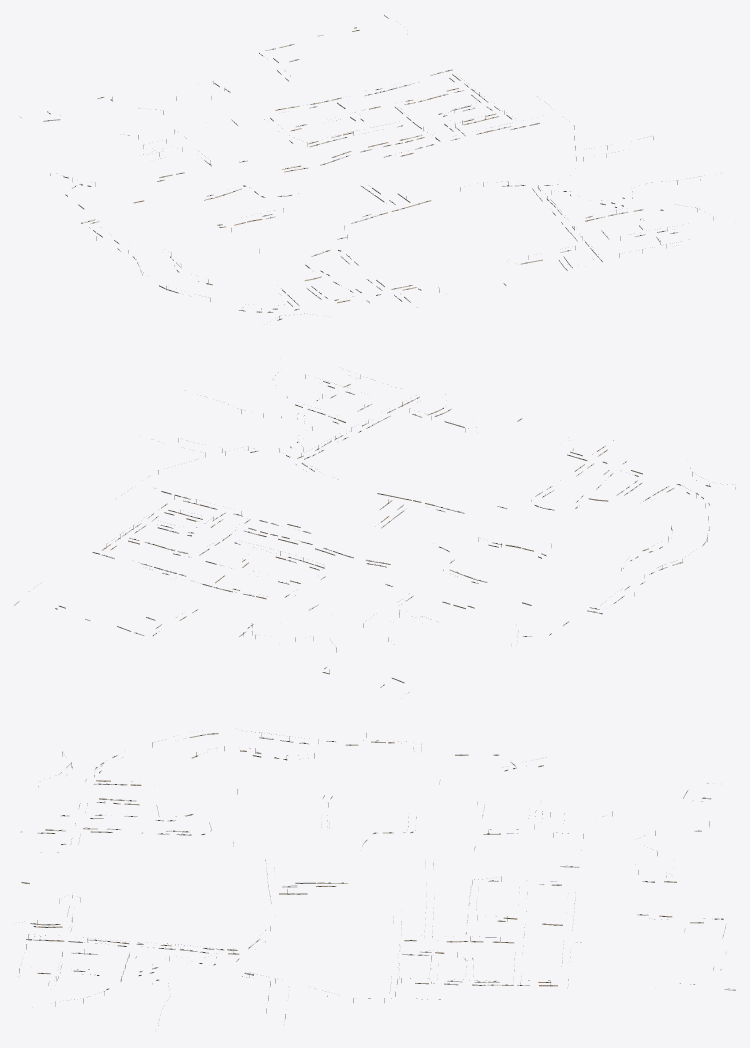
3 renders of one model, top to bottom at view 1: azimuth 30°, elevation 25°; view 2: azimuth 150°, elevation 25°; view 3: azimuth 270°, elevation 25°, orthographic. The views are drawn at different scales.
Visible parts, largest first — view 1: nd_st_m7_m3_lod0; view 2: nd_st_m7_m3_lod0; view 3: nd_st_m7_m3_lod0.
Boxes of the visible parts, x1,y1,x2,y2 form: nd_st_m7_m3_lod0: [20, 15, 713, 320]; nd_st_m7_m3_lod0: [14, 374, 735, 694]; nd_st_m7_m3_lod0: [19, 731, 735, 1025].
Size of what is drawn, in the model's own units: 1015 by 24.55 by 1020.
